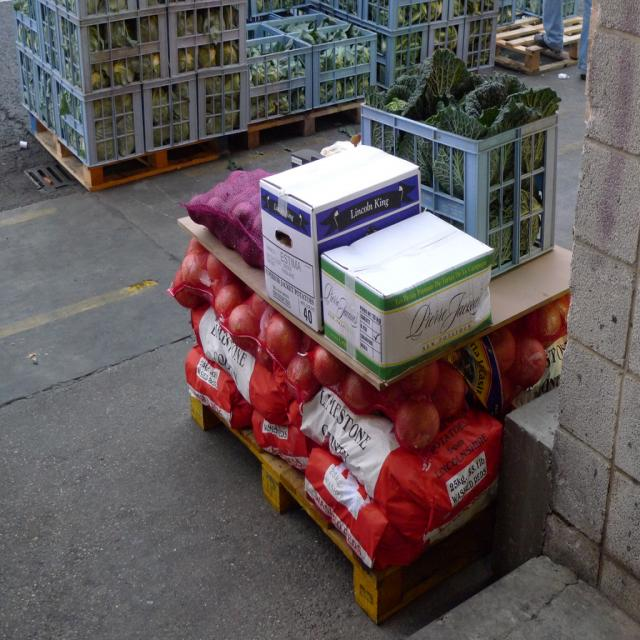Box: (259, 137, 421, 337)
